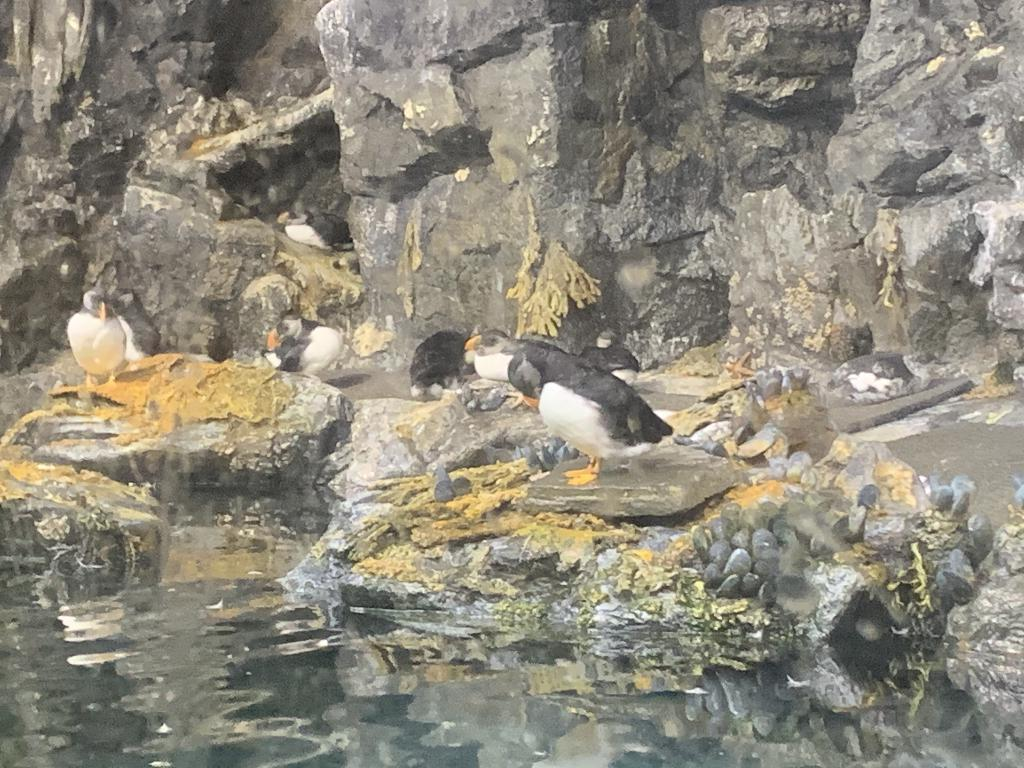puffin: (520, 354, 676, 492), (464, 329, 590, 399), (63, 286, 131, 392), (260, 310, 344, 384), (276, 202, 356, 258), (110, 284, 164, 364), (578, 328, 640, 391)
